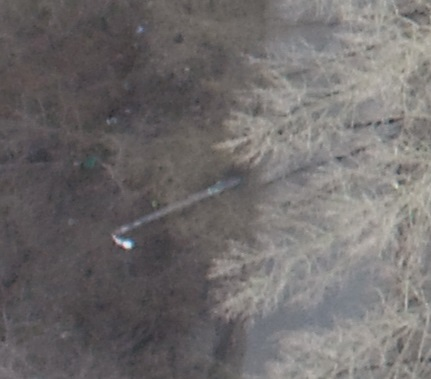opora: (109, 173, 244, 251)
